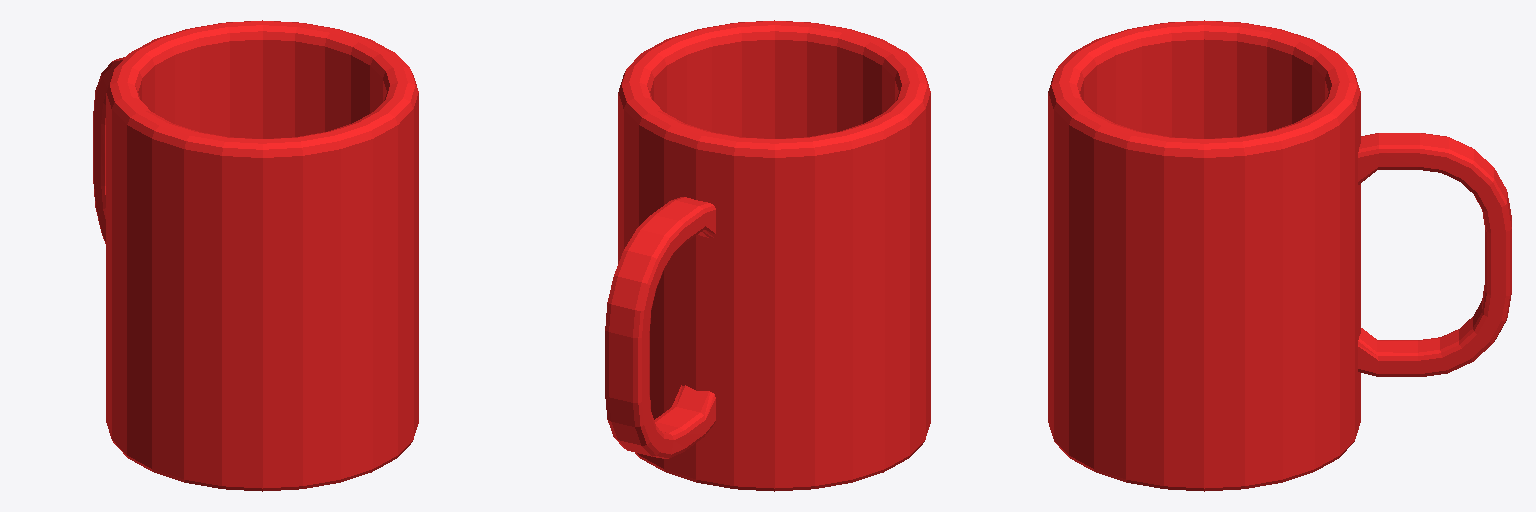
URDF robot description (mug):
<robot name="mug">
    <link name="base_link">
        <contact>
            <lateral_friction value="1.0"/>
        </contact>
        <inertial>
            <origin xyz="0 0 0"/>
            <mass value="1"/>
            <inertia ixx="1" ixy="0" ixz="0" iyy="1" iyz="0" izz="1"/>
        </inertial>
        <visual>
            <origin xyz="0 0 0"/>
            <geometry>
                <mesh filename="mug.obj"/>
            </geometry>
      <material name="mug">
        <color rgba="1 0.2 0.2 1"/>
        <specular rgb="1 1 1"/>
      </material>
        </visual>
        <collision>
            <origin xyz="0 0 0"/>
            <geometry>
                <mesh filename="mug.obj"/>
            </geometry>
        </collision>
    </link>
</robot>

--- Render facts (derived) ---
Views: 3 orthographic renders of the robot side by side, from view 1: azimuth 30°, elevation 25°; view 2: azimuth 150°, elevation 25°; view 3: azimuth 270°, elevation 25°.
Robot: mug — 1 links, 0 joints (none); root link base_link; default pose: every joint at zero.
Visible links, largest first — view 1: base_link; view 2: base_link; view 3: base_link.
Boxes of the visible links, x1,y1,x2,y2 form: base_link: (93,20,418,491); base_link: (605,20,930,491); base_link: (1048,20,1511,491).
Bounding box of the posed robot: 0.2066 × 0.3065 × 0.252 m (x, y, z).
1 mesh visuals loaded from 1 distinct referenced files (1 OBJ).